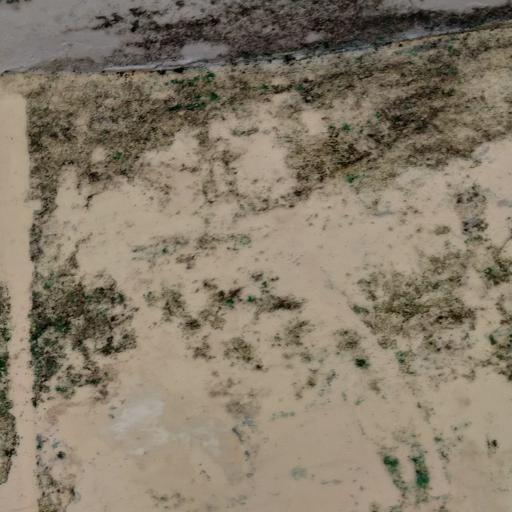algae: (20, 0, 512, 414)
